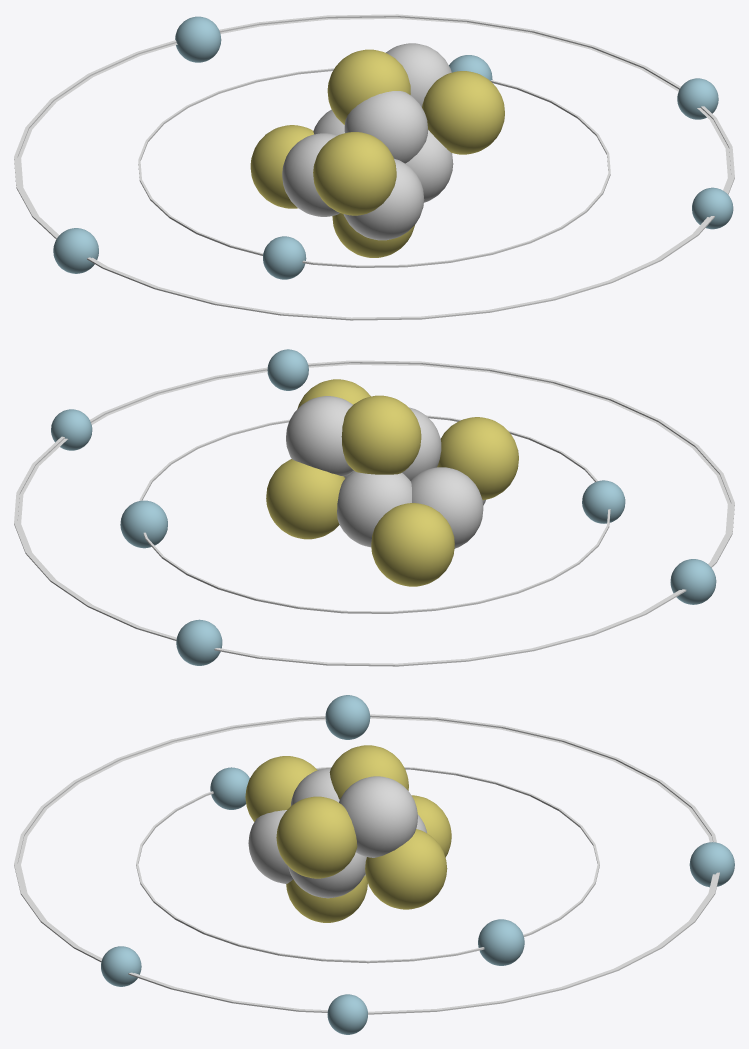
Rendered from modelo bohr.fbx.
The picture shows the model from 3 angles, top to bottom: view 1: azimuth 30°, elevation 25°; view 2: azimuth 150°, elevation 25°; view 3: azimuth 270°, elevation 25°; orthographic projection. The views are drawn at different scales.
Parts seen in each view (by area): view 1: Circle.001, Sphere.007, Sphere, Sphere.010, Sphere.006, Sphere.013, Circle, Sphere.012, Sphere.008, Sphere.009, Sphere.003, Sphere.016 (+7 smaller); view 2: Circle.001, Sphere.012, Sphere.006, Sphere.002, Sphere.007, Sphere.009, Sphere.001, Sphere.008, Circle, Sphere.005, Sphere.016, Sphere.015 (+5 smaller); view 3: Circle.001, Sphere, Sphere.009, Sphere.002, Circle, Sphere.007, Sphere.006, Sphere.011, Sphere.013, Sphere.005, Sphere.003, Sphere.015 (+6 smaller).
Part boxes in pixels (x1,y1,x2,y2): Circle.001: (14,14,734,320); Sphere.007: (313,132,396,215); Sphere: (422,71,504,154); Sphere.010: (344,91,428,163); Sphere.006: (327,49,410,124); Sphere.013: (343,158,424,240); Circle: (138,68,610,267); Sphere.012: (250,125,313,208); Sphere.008: (282,133,339,216); Sphere.009: (386,43,451,107); Sphere.003: (405,130,453,202); Sphere.016: (175,16,221,62); Circle.001: (14,360,734,666); Sphere.012: (371,503,454,586); Sphere.006: (341,395,421,474); Sphere.002: (266,459,345,539); Sphere.007: (437,417,518,500); Sphere.009: (286,396,353,476); Sphere.001: (337,471,411,547); Sphere.008: (411,467,483,548); Circle: (139,415,610,613); Sphere.005: (120,500,167,548); Sphere.016: (176,619,222,665); Sphere.015: (670,559,716,604); Circle.001: (14,714,719,1014); Sphere: (276,796,357,878); Sphere.009: (339,776,417,857); Sphere.002: (365,829,447,909); Circle: (136,767,599,963); Sphere.007: (245,756,317,821); Sphere.006: (329,745,408,799); Sphere.011: (286,875,367,922); Sphere.013: (248,810,293,883); Sphere.005: (478,919,524,965); Sphere.003: (288,852,366,898); Sphere.015: (325,695,370,739).
Bounding box in the file's own units: 1816 × 478 × 1755.
